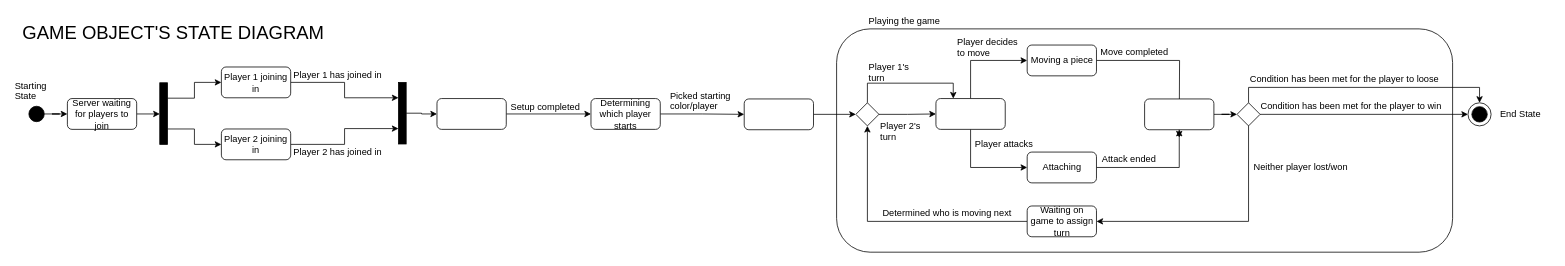
The diagram is 1565 pixels wide and 266 high, and some of its shapes have lost their labels. Here are the shapes that lost their labels. From the top down, the centre of each, then its label:
point 471,113: Waiting on players to setup their board
point 778,114: Ready to play
point 970,113: Player deciding what move to make
point 1179,114: End of turn
